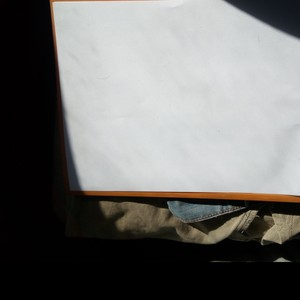out: (1, 1, 298, 299)
